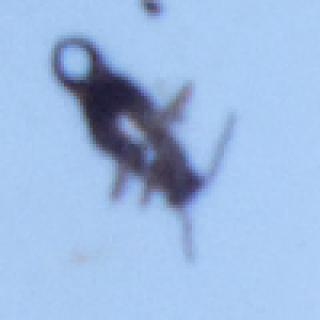earwig: (46, 32, 245, 264)
